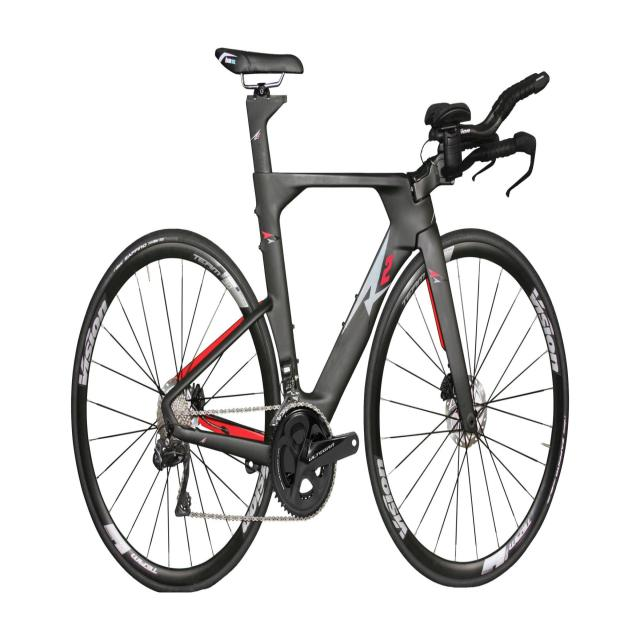TT-bike: (69, 46, 570, 594)
